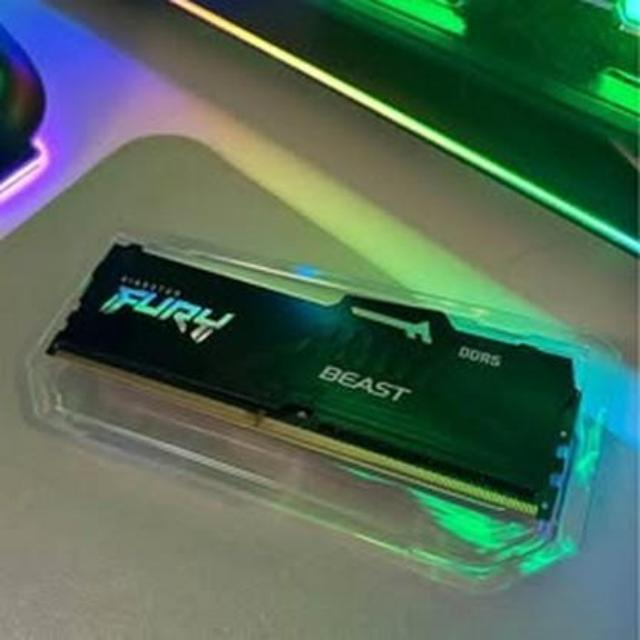RAM: (0, 214, 614, 540)
